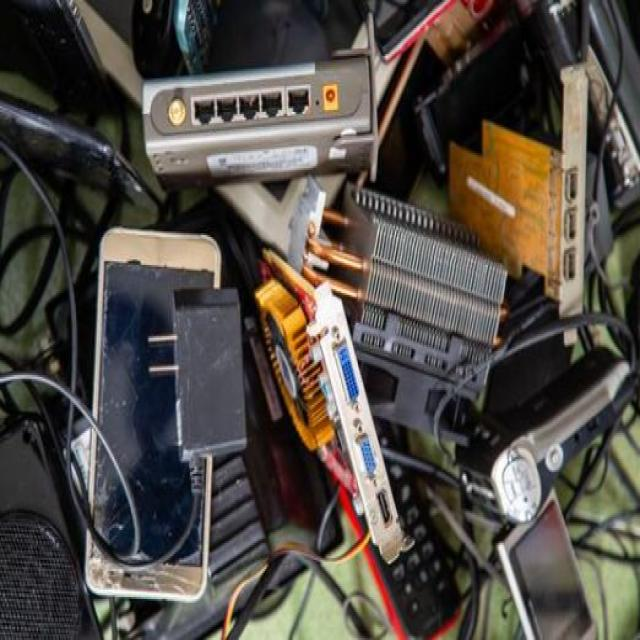electronic: (91, 206, 238, 620)
